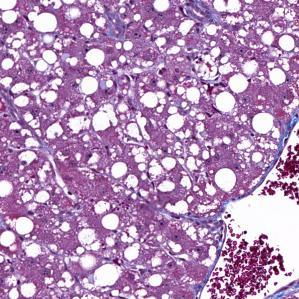fibrosis: (273, 111, 298, 161)
